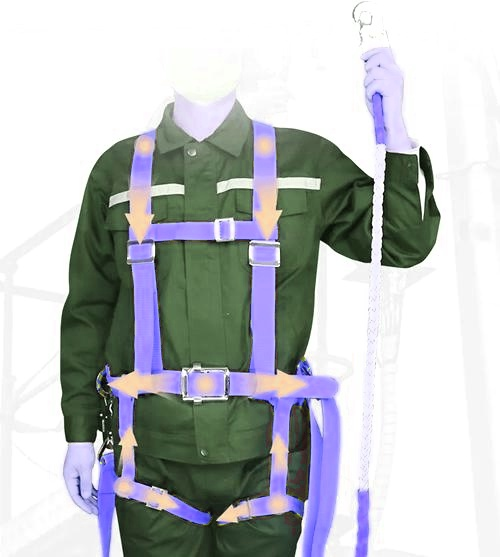safety belt: (100, 120, 340, 540)
